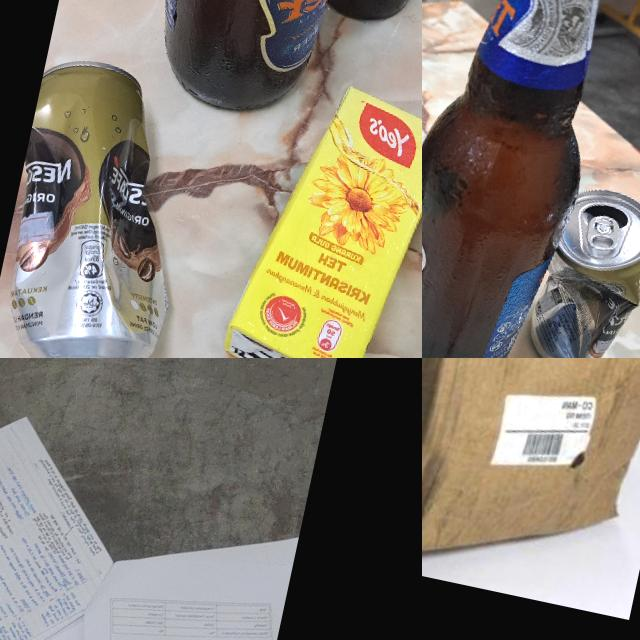caixinha: (217, 72, 422, 358), (377, 62, 422, 358)
garrafa de vidro: (422, 0, 640, 358), (121, 0, 372, 126)
lata: (0, 49, 212, 358), (518, 179, 640, 358)
papel: (0, 405, 311, 640)
papelão: (422, 358, 640, 617)
